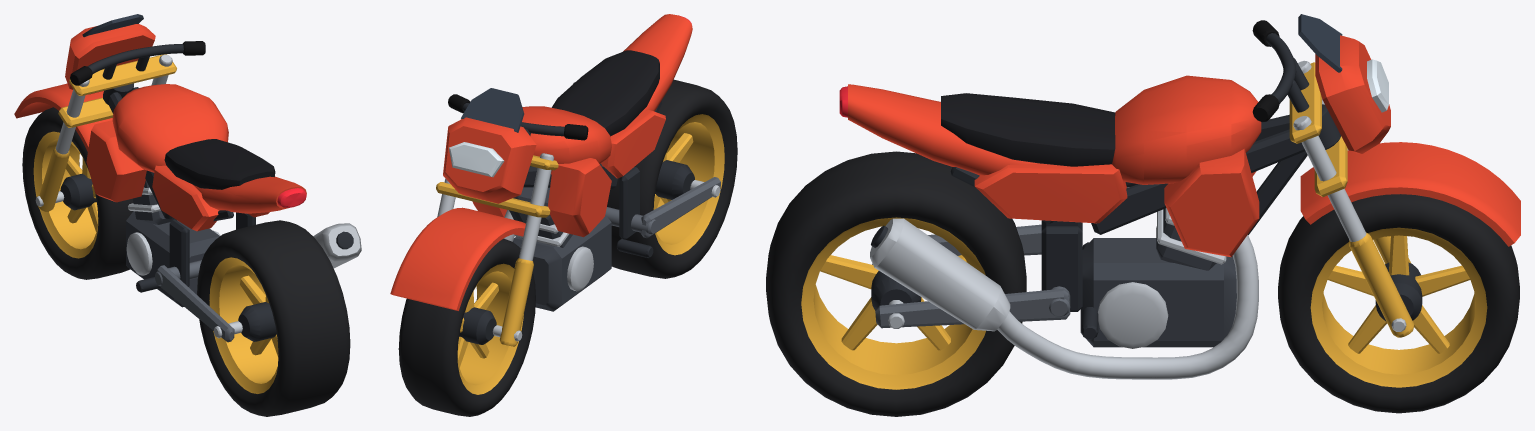
Rendered from MotorcycleTag_Bike.glb.
3 views of the same model, side by side, from view 1: azimuth 30°, elevation 25°; view 2: azimuth 150°, elevation 25°; view 3: azimuth 270°, elevation 25° (orthographic). The views are drawn at different scales.
Visible parts, largest first — view 1: RearWheel, Bodywork, FrontWheel, Fork, Engine, Seat, HeadlightCowl, Frame, Swingarm, Handlebars, FrontFender, Exhaust (+2 smaller); view 2: FrontWheel, RearWheel, Bodywork, FrontFender, Engine, Seat, HeadlightCowl, Fork, Frame, Swingarm, Windscreen, Headlight (+1 smaller); view 3: RearWheel, FrontWheel, Bodywork, Exhaust, Engine, FrontFender, Seat, Frame, Fork, HeadlightCowl, Swingarm, Handlebars (+2 smaller).
Part boxes in pixels (x1,y1,x2,y2): RearWheel: [197, 220, 350, 416]; Bodywork: [86, 84, 306, 231]; FrontWheel: [22, 107, 133, 279]; Fork: [35, 54, 176, 211]; Engine: [126, 180, 220, 307]; Seat: [164, 139, 275, 189]; HeadlightCowl: [65, 24, 155, 94]; Frame: [103, 83, 255, 292]; Swingarm: [155, 260, 242, 342]; Handlebars: [70, 41, 205, 85]; FrontFender: [14, 83, 112, 151]; Exhaust: [313, 223, 361, 268]; FrontWheel: [398, 238, 535, 416]; RearWheel: [607, 79, 737, 278]; Bodywork: [472, 14, 692, 237]; FrontFender: [390, 207, 525, 310]; Engine: [513, 187, 611, 311]; Seat: [552, 50, 659, 136]; HeadlightCowl: [443, 117, 536, 203]; Fork: [436, 153, 558, 346]; Frame: [509, 101, 662, 257]; Swingarm: [605, 177, 720, 238]; Windscreen: [461, 88, 524, 132]; Headlight: [449, 142, 504, 177]; RearWheel: [766, 151, 1026, 416]; FrontWheel: [1278, 194, 1519, 413]; Bodywork: [848, 75, 1261, 257]; Exhaust: [870, 218, 1258, 379]; Engine: [1080, 208, 1236, 348]; FrontFender: [1300, 142, 1520, 246]; Seat: [941, 93, 1115, 166]; Frame: [950, 104, 1340, 339]; Fork: [1289, 60, 1414, 337]; HeadlightCowl: [1315, 35, 1390, 153]; Swingarm: [875, 224, 1070, 328]; Handlebars: [1252, 20, 1309, 121].
Bounding box in the file's own units: 2.59 × 4.5 × 8.11.
1 material, 1 textured.
